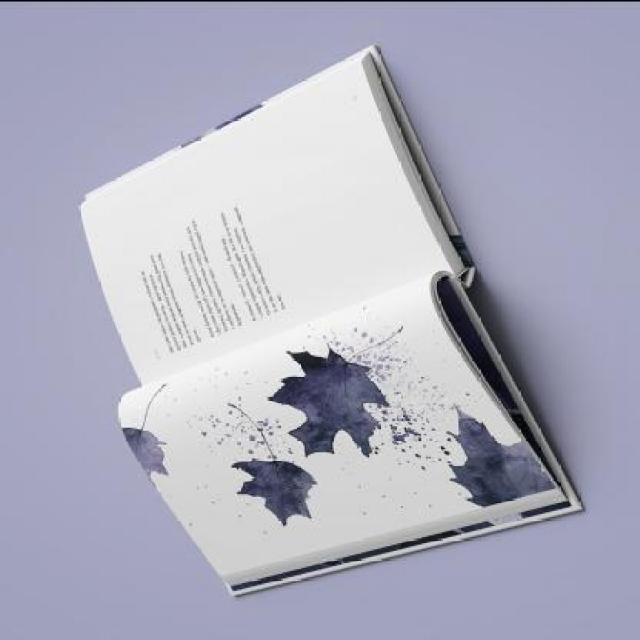book: (3, 37, 605, 599)
